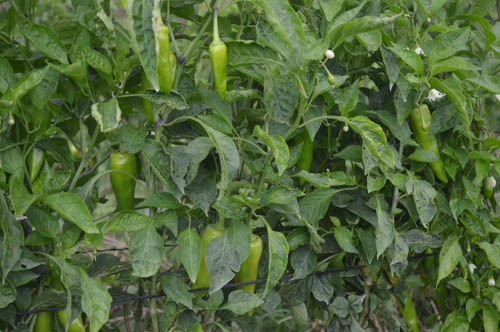ChiliPepper: (412, 104, 449, 182), (143, 34, 171, 120), (192, 228, 227, 290), (236, 238, 262, 300), (109, 152, 135, 208), (208, 44, 233, 94)
